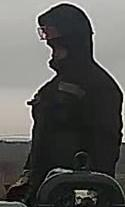gloves: (3, 166, 32, 201)
helmet: (36, 21, 66, 44)
vest: (24, 63, 123, 205)
